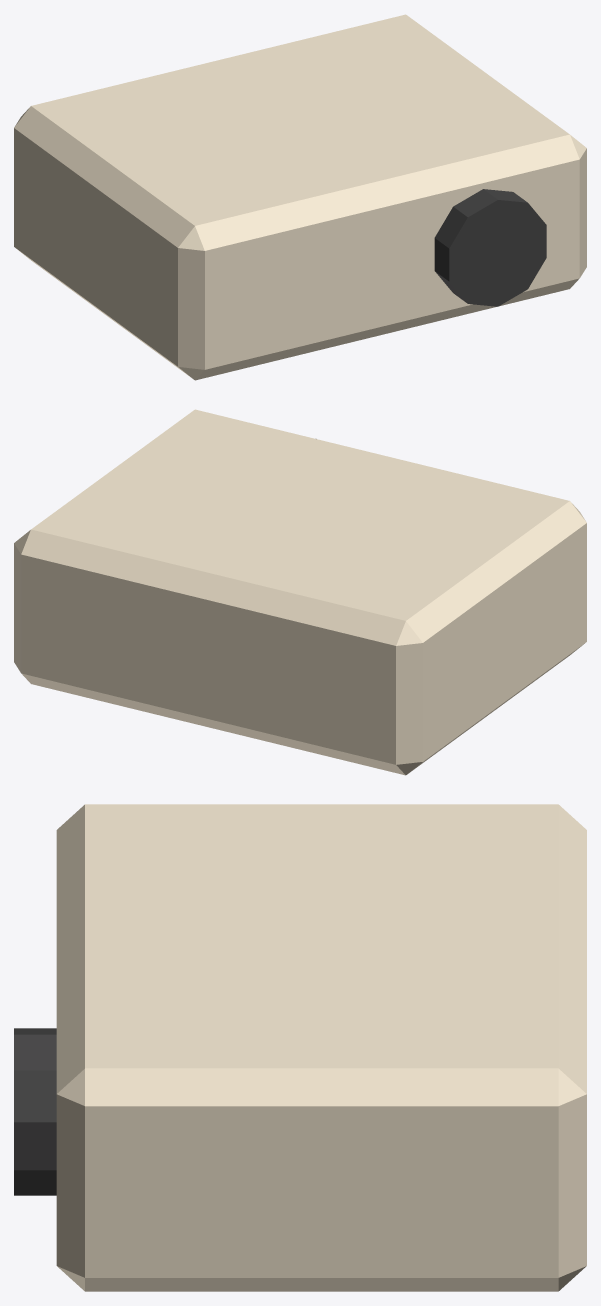
The picture shows the model from 3 angles, top to bottom: view 1: azimuth 30°, elevation 25°; view 2: azimuth 150°, elevation 25°; view 3: azimuth 270°, elevation 25°; orthographic projection. The views are drawn at different scales.
Parts seen in each view (by area): view 1: Projector, Lens; view 2: Projector; view 3: Projector, Lens.
Boxes of the visible parts, <box> form: Projector: <box>14,14,586,380</box>; Lens: <box>434,189,546,306</box>; Projector: <box>14,409,586,775</box>; Projector: <box>56,804,586,1291</box>; Lens: <box>14,1028,56,1195</box>.
Bounding box in the file's own units: 36 × 13 × 30.25.
